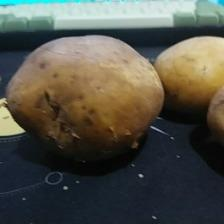Damaged potato: (5, 33, 166, 163)
Potato: (154, 33, 224, 109)
